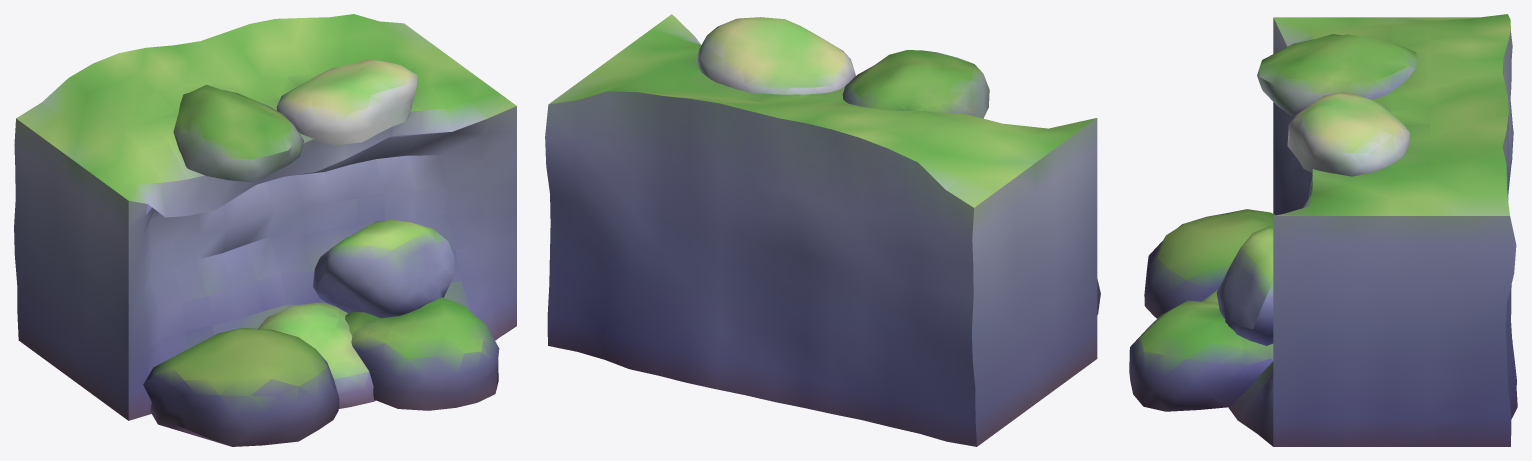
Rendered from verdant_cliff_wall_c.glb.
3 renders of one model, left to right at view 1: azimuth 30°, elevation 25°; view 2: azimuth 150°, elevation 25°; view 3: azimuth 270°, elevation 25°, orthographic. The views are drawn at different scales.
Parts seen in each view (by area): view 1: verdant_cliff_wall_c; view 2: verdant_cliff_wall_c; view 3: verdant_cliff_wall_c.
Boxes of the visible parts, x1,y1,x2,y2 form: verdant_cliff_wall_c: [14, 14, 516, 446]; verdant_cliff_wall_c: [545, 14, 1100, 446]; verdant_cliff_wall_c: [1129, 14, 1517, 446].
Bounding box in the file's own units: 12 × 8 × 9.91.
